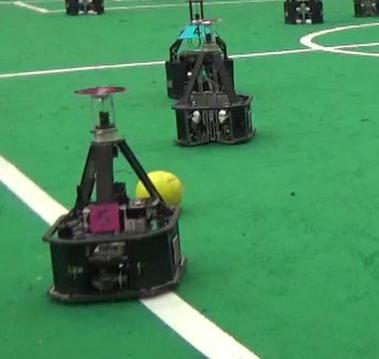robot: (36, 81, 192, 309), (171, 19, 260, 148), (162, 1, 244, 100)
